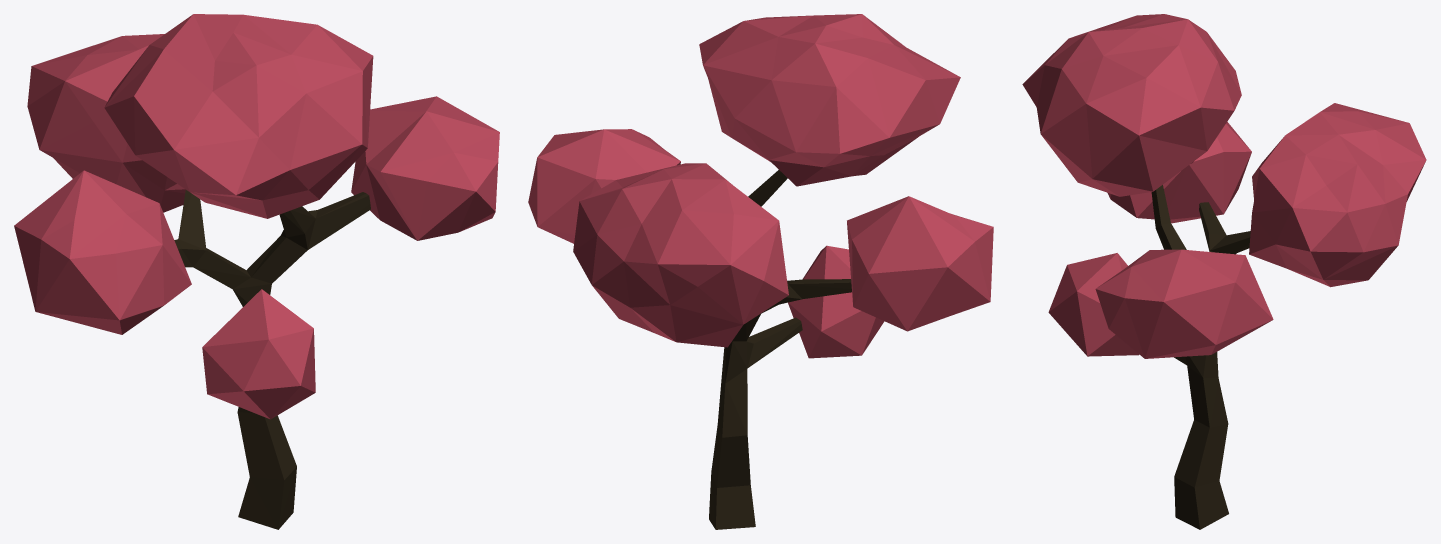
File: tree2.obj
The picture shows the model from 3 angles, left to right: view 1: azimuth 30°, elevation 25°; view 2: azimuth 150°, elevation 25°; view 3: azimuth 270°, elevation 25°; orthographic projection. The views are drawn at different scales.
Parts seen in each view (by area): view 1: Icosphere.002; view 2: Icosphere.002; view 3: Icosphere.002.
Boxes of the visible parts, x1=… form: Icosphere.002: x1=14, y1=14, x2=499, y2=529; Icosphere.002: x1=528, y1=14, x2=993, y2=529; Icosphere.002: x1=1022, y1=14, x2=1426, y2=529.
Bounding box in the file's own units: 5.64 × 6.14 × 4.83.
1 material, 1 textured.
